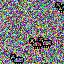sheep: (9, 53, 24, 64), (38, 37, 52, 48), (29, 38, 42, 49), (55, 2, 64, 13)
